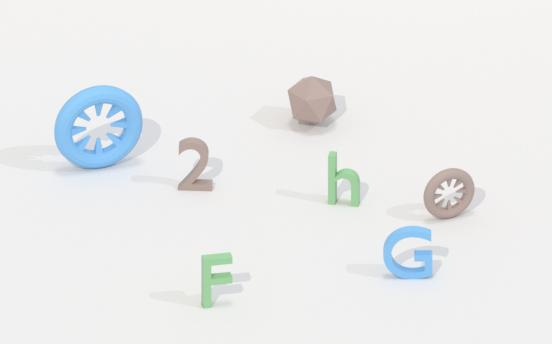2: (174, 134, 222, 196)
F: (197, 248, 238, 311)
G-hoa: (382, 225, 438, 280)
dagiac: (283, 71, 339, 129)
h: (326, 147, 363, 209)
tron: (51, 87, 148, 167), (422, 166, 481, 222)
